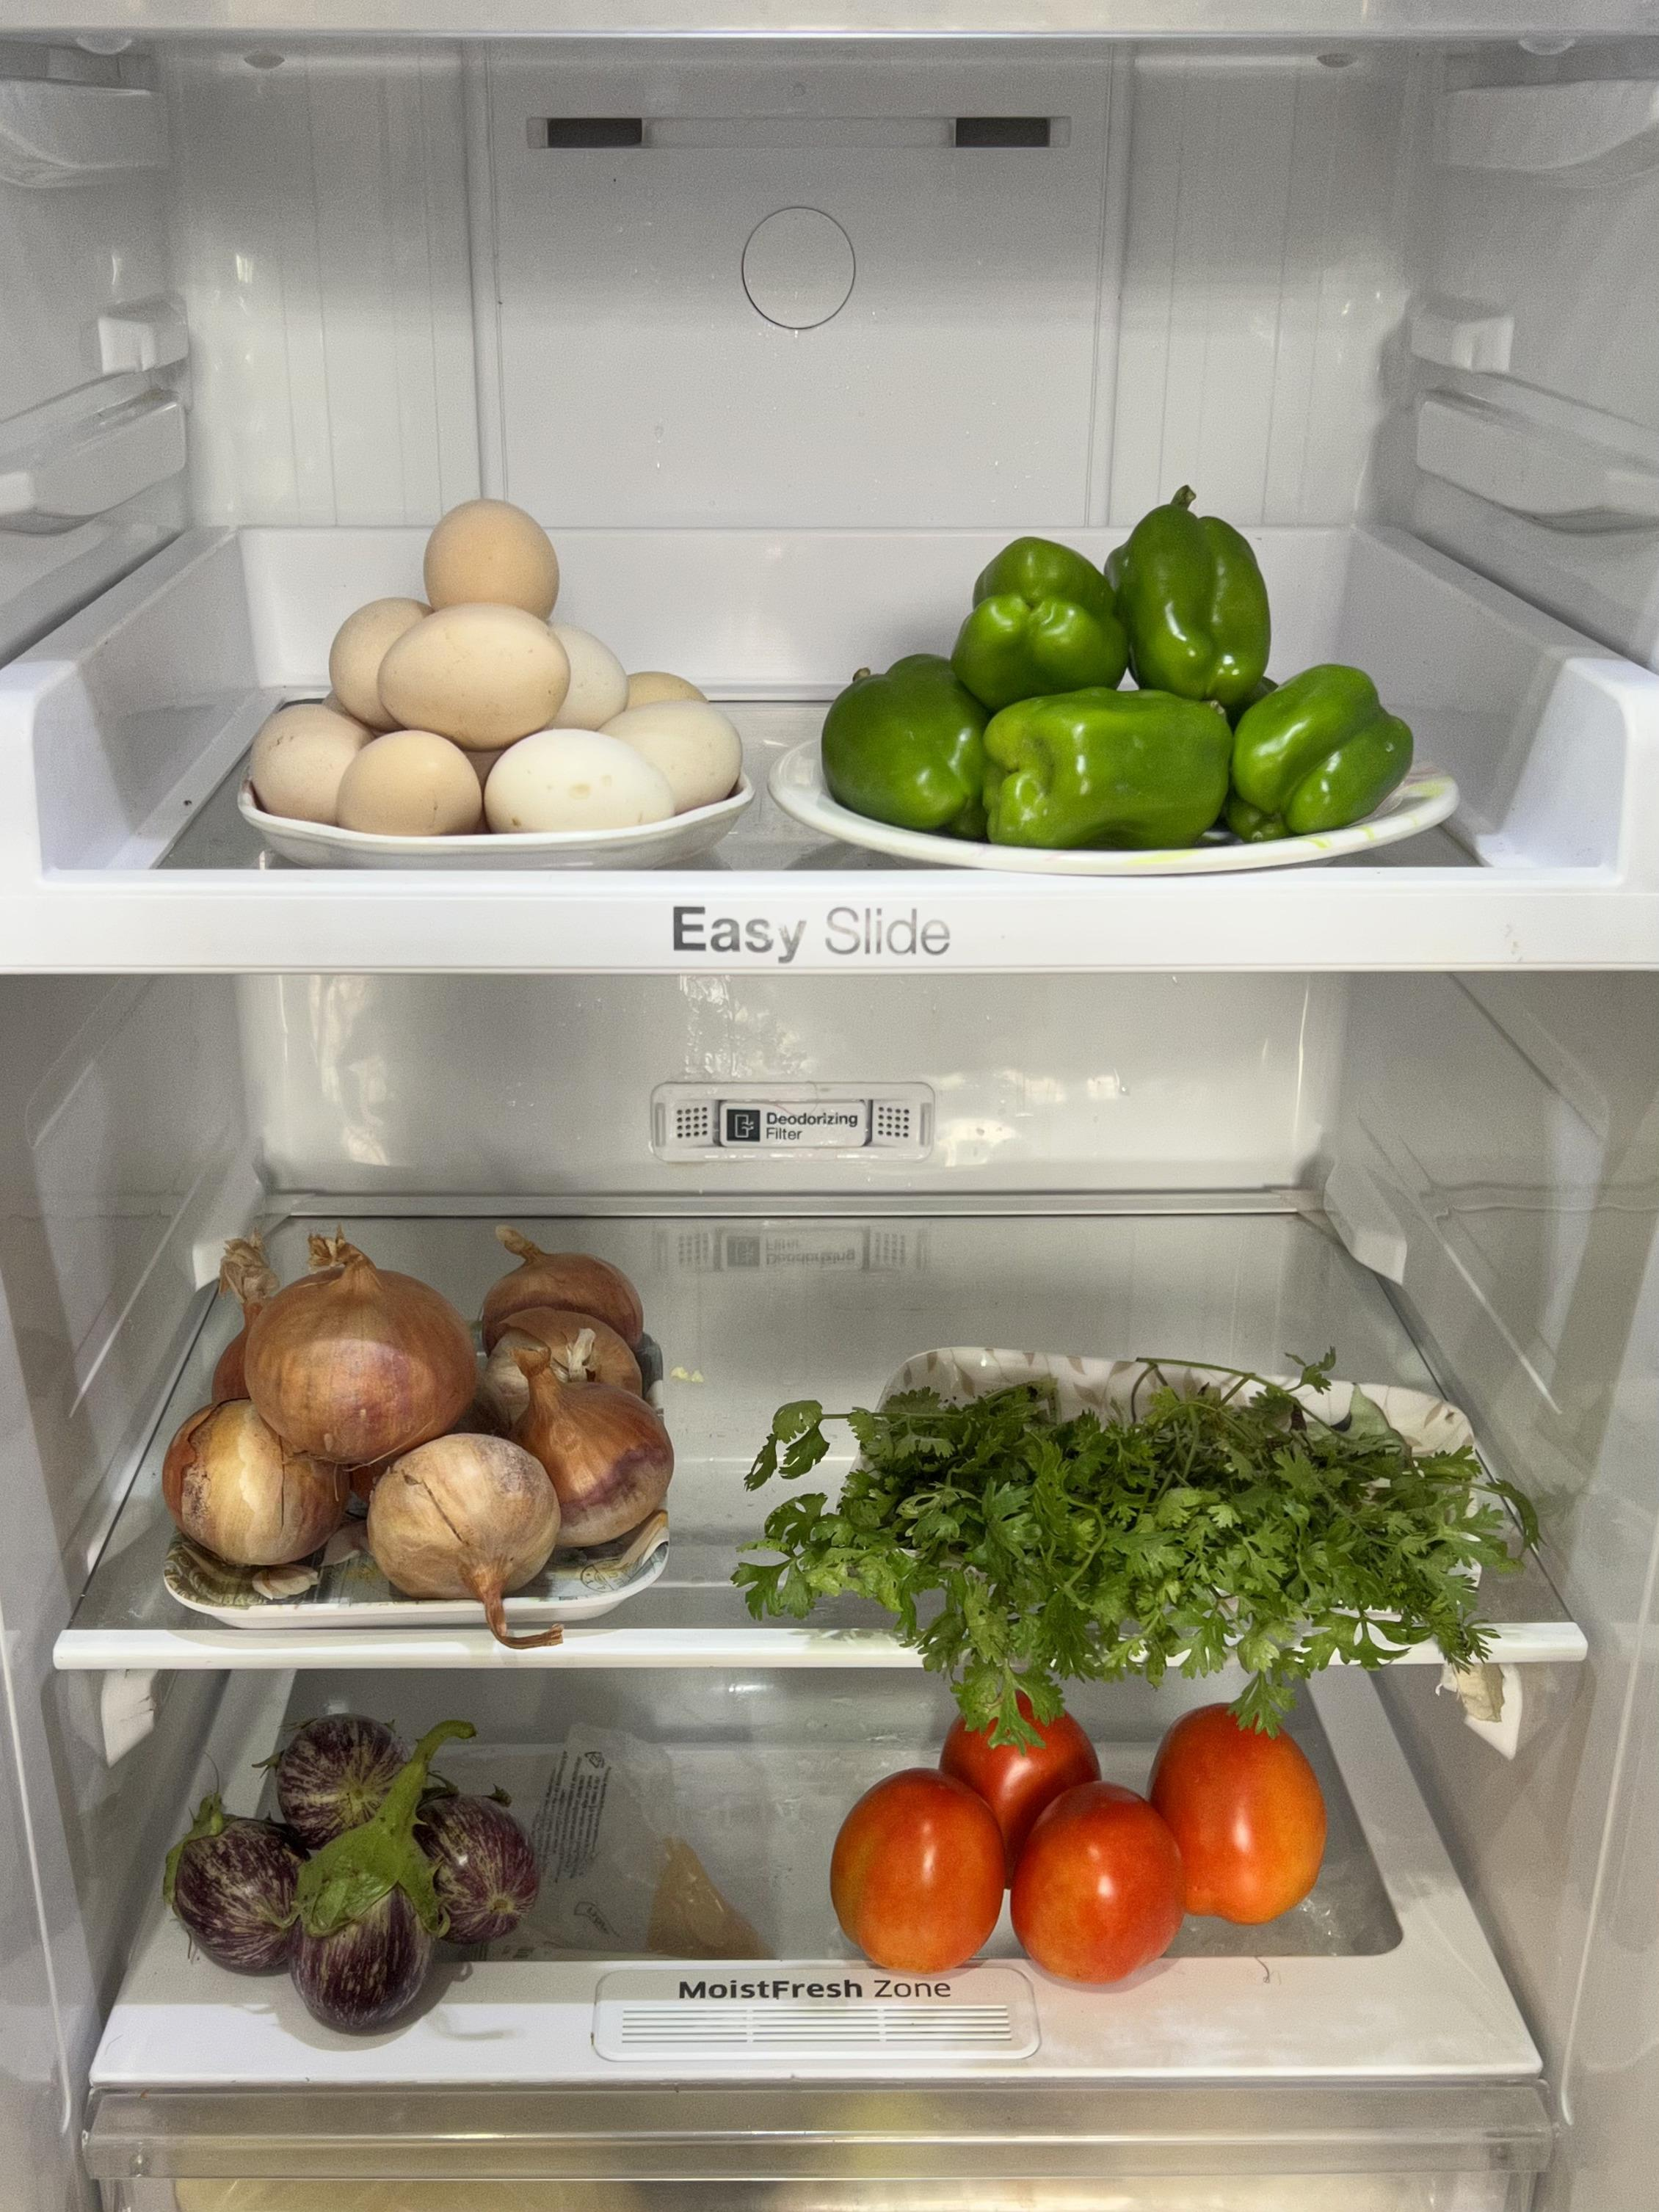bringal: (164, 1707, 544, 2031)
capsicum: (824, 495, 1415, 836)
coriander: (751, 1378, 1502, 1672)
egg: (242, 498, 748, 841)
onion: (167, 1240, 673, 1595)
tomato: (800, 1700, 1324, 1977)
